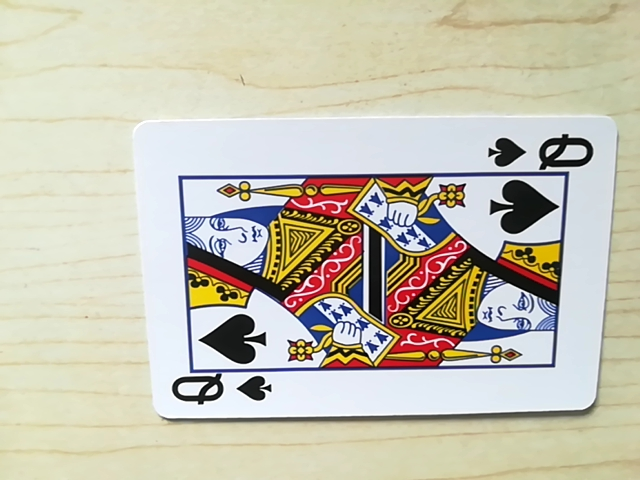ht q: (166, 366, 276, 415), (487, 128, 594, 173)
